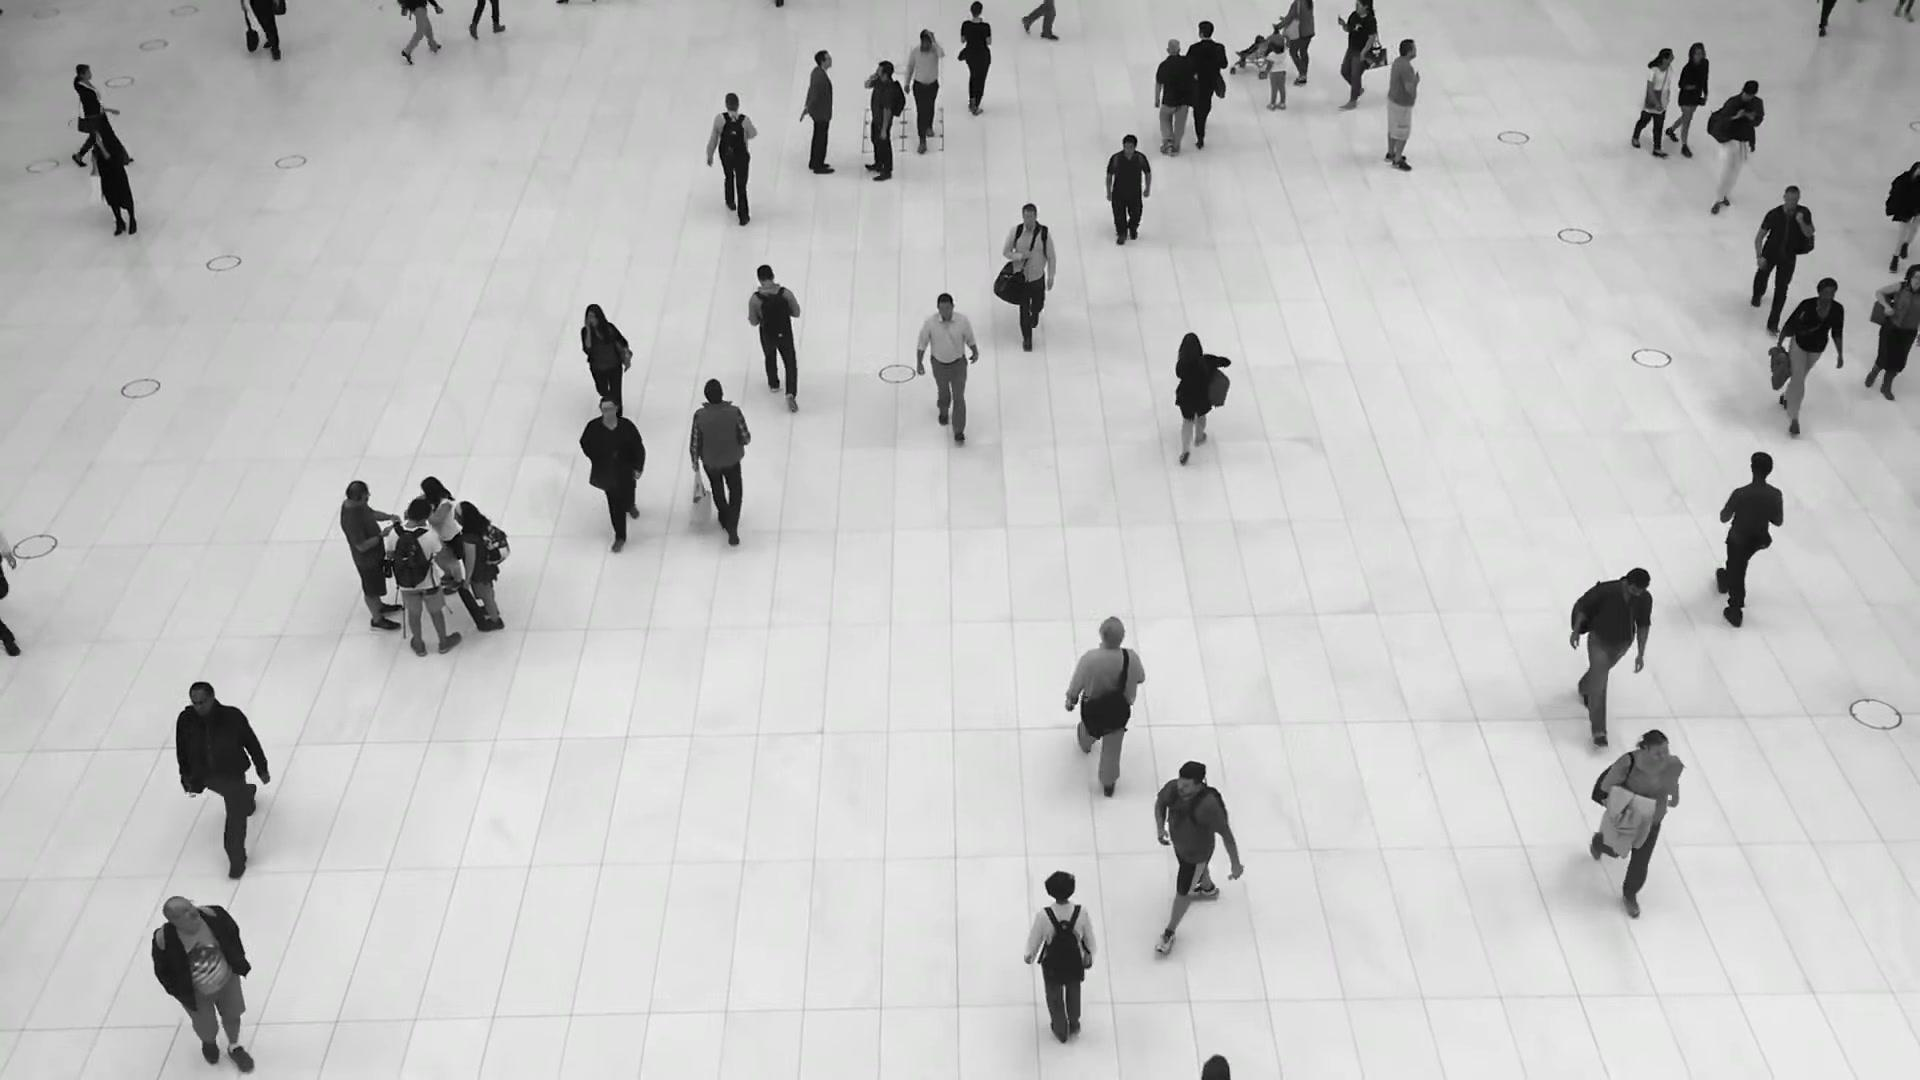person: (150, 896, 257, 1077), (1588, 728, 1683, 924), (174, 676, 261, 863), (1156, 759, 1233, 949), (1065, 615, 1145, 796), (1572, 567, 1654, 739), (1026, 874, 1098, 1060), (1710, 450, 1784, 622), (385, 499, 460, 657), (1770, 276, 1843, 430), (688, 379, 752, 551), (577, 394, 649, 543), (1749, 181, 1816, 327), (338, 480, 401, 632), (917, 293, 980, 441), (1861, 268, 1920, 410), (1704, 80, 1763, 216), (1003, 205, 1056, 356), (748, 261, 802, 407), (1170, 331, 1226, 460), (706, 93, 759, 226), (453, 500, 507, 633), (1102, 136, 1153, 253), (579, 302, 631, 411), (859, 59, 904, 182), (1183, 18, 1228, 143), (91, 118, 137, 236), (1153, 40, 1196, 163), (1332, 0, 1378, 112), (1383, 37, 1421, 172), (904, 25, 945, 146), (420, 476, 460, 596), (1668, 41, 1709, 155), (1632, 46, 1675, 155), (799, 49, 835, 174), (959, 4, 991, 120), (71, 62, 112, 154), (1274, 0, 1314, 88), (1263, 35, 1287, 110)
